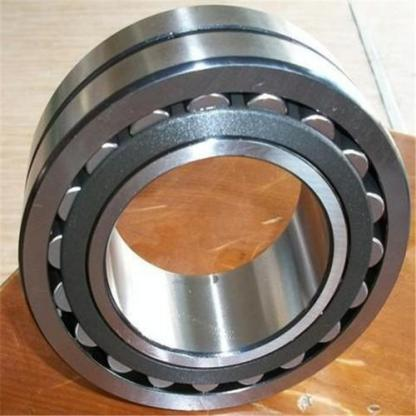FOD: (11, 0, 413, 413)
